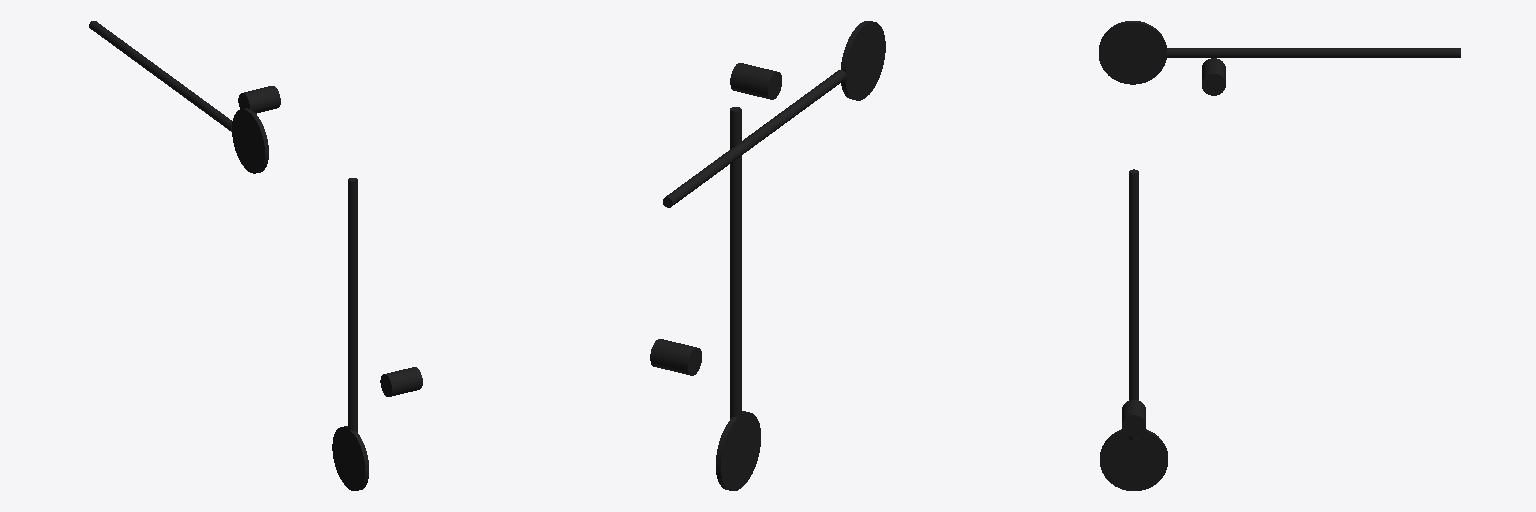
URDF robot description (fingerpro):
<?xml version="1.0" ?>
<!-- =================================================================================== -->
<!-- |    This document was autogenerated by xacro from robot_properties_fingers/xacro/pro/fingerpro.urdf.xacro | -->
<!-- |    EDITING THIS FILE BY HAND IS NOT RECOMMENDED                                 | -->
<!-- =================================================================================== -->
<robot name="fingerpro">
  <!--
    Frames are defined such that they all align with the base frame when all
    joints are at position zero.

    In zero-configuration the origins of all joints are in one line.

    In zero-configuration the origin of the base link is exactly above the
    finger tip which should make it easy to place the finger in the world.
    -->
  <!--
    Frames are defined such that they all align with the base frame when all
    joints are at position zero.

    In zero-configuration the origins of all joints are in one line.

    In zero-configuration the origin of the base link is exactly above the
    finger tip which should make it easy to place the finger in the world.
    -->
  <material name="fingerpro_shell">
    <!-- colour from image -->
    <color rgba="0.804 0.764 0.761 1.0"/>
  </material>
  <material name="fingerpro_tip">
    <!-- colour from image -->
    <color rgba="0.33 0.36 0.37 1.0"/>
  </material>
  <material name="fingerpro_motor">
    <color rgba="0.17 0.17 0.17 1.0"/>
  </material>
  <!--
        Fixed links for the finger base (parts where the upper link is mounted).
        Note: Link Frames already coincide with the joint location
        -->
  <link name="finger_base_link">
    <inertial>
      <mass value="0"/>
      <inertia ixx="0.0" ixy="0.0" ixz="0.0" iyy="0.0" iyz="0.0" izz="0.0"/>
    </inertial>
  </link>
  <link name="finger_upper_link">
    <visual>
      <origin rpy="0 0 0" xyz="0 0 0"/>
      <geometry>
        <mesh filename="package://robot_properties_fingers/meshes/pro/prox-sim.stl" scale="1.0 1.0 1.0"/>
      </geometry>
      <material name="fingerpro_shell"/>
    </visual>
    <collision>
      <origin rpy="0 0 0" xyz="0 0 0"/>
      <geometry>
        <mesh filename="package://robot_properties_fingers/meshes/pro/prox-sim.stl" scale="1.0 1.0 1.0"/>
      </geometry>
    </collision>
    <inertial>
      <origin rpy="0 0 0" xyz="0.006 0.122 0.000"/>
      <mass value="0.26689"/>
      <inertia ixx="0.00102362" ixy="0.00000889" ixz="-0.00000019" iyx="0.00000889" iyy="0.00006450" iyz="0.00000106" izx="-0.00000019" izy="0.00000106" izz="0.00102225"/>
    </inertial>
  </link>
  <link name="finger_upper_link_visuals">
    <!-- motor -->
    <visual>
      <origin xyz="0.01569 0.1643 0"/>
      <geometry>
        <mesh filename="package://robot_properties_fingers/meshes/pro/motor_sim.stl"/>
      </geometry>
      <material name="fingerpro_motor"/>
    </visual>
    <!-- end stop -->
    <visual>
      <origin rpy="0 1.5707963267948966 0" xyz="0.015 0.083 0"/>
      <geometry>
        <cylinder length="0.015" radius="0.005"/>
      </geometry>
      <material name="fingerpro_motor"/>
    </visual>
    <!-- cables -->
    <visual>
      <origin rpy="1.5707963267948966 0 0" xyz="-0.008 0.124 0"/>
      <geometry>
        <cylinder length="0.12" radius="0.002"/>
      </geometry>
      <material name="fingerpro_motor"/>
    </visual>
    <!-- opening on lower joint -->
    <visual>
      <origin rpy="0 1.5707963267948966 0" xyz="-0.0085 0.050 0"/>
      <geometry>
        <cylinder length="0.002" radius="0.014"/>
      </geometry>
      <material name="fingerpro_motor"/>
    </visual>
    <inertial>
      <mass value="0"/>
      <inertia ixx="0.0" ixy="0.0" ixz="0.0" iyy="0.0" iyz="0.0" izz="0.0"/>
    </inertial>
  </link>
  <joint name="finger_upper_visuals_joint" type="fixed">
    <parent link="finger_upper_link"/>
    <child link="finger_upper_link_visuals"/>
    <origin xyz="0 0 0"/>
  </joint>
  <link name="finger_middle_link">
    <visual>
      <origin rpy="0 0 0" xyz="0 0 0"/>
      <geometry>
        <mesh filename="package://robot_properties_fingers/meshes/pro/int_sim.stl" scale="1.0 1.0 1.0"/>
      </geometry>
      <material name="fingerpro_shell"/>
    </visual>
    <collision>
      <origin rpy="0 0 0" xyz="0 0 0"/>
      <geometry>
        <mesh filename="package://robot_properties_fingers/meshes/pro/int_sim.stl" scale="1.0 1.0 1.0"/>
      </geometry>
    </collision>
    <inertial>
      <origin rpy="0 0 0" xyz="0.03935008 -0.00012438 -0.08666705"/>
      <mass value="0.27163"/>
      <inertia ixx="0.00094060" ixy="-0.00000046" ixz="-0.00003479" iyx="-0.00000046" iyy="0.00094824" iyz="0.00000164" izx="-0.00003479" izy="0.00000164" izz="0.00007573"/>
    </inertial>
  </link>
  <link name="finger_middle_link_visuals">
    <!-- motor -->
    <visual>
      <origin xyz="0.0488 0 -0.0462"/>
      <geometry>
        <mesh filename="package://robot_properties_fingers/meshes/pro/motor_sim.stl"/>
      </geometry>
      <material name="fingerpro_motor"/>
    </visual>
    <!-- end stop -->
    <visual>
      <origin rpy="0 1.5707963267948966 0" xyz="0.0488 0 -0.13"/>
      <geometry>
        <cylinder length="0.015" radius="0.005"/>
      </geometry>
      <material name="fingerpro_motor"/>
    </visual>
    <!-- cables -->
    <visual>
      <origin xyz="0.025 0 -0.09"/>
      <geometry>
        <cylinder length="0.12" radius="0.002"/>
      </geometry>
      <material name="fingerpro_motor"/>
    </visual>
    <!-- opening on lower joint -->
    <visual>
      <origin rpy="0 1.5707963267948966 0" xyz="0.024 0 -0.16"/>
      <geometry>
        <cylinder length="0.002" radius="0.014"/>
      </geometry>
      <material name="fingerpro_motor"/>
    </visual>
    <inertial>
      <mass value="0"/>
      <inertia ixx="0.0" ixy="0.0" ixz="0.0" iyy="0.0" iyz="0.0" izz="0.0"/>
    </inertial>
  </link>
  <joint name="finger_middle_visuals_joint" type="fixed">
    <parent link="finger_middle_link"/>
    <child link="finger_middle_link_visuals"/>
  </joint>
  <link name="finger_lower_link">
    <visual>
      <origin rpy="0 0 0" xyz="0 0 0"/>
      <geometry>
        <mesh filename="package://robot_properties_fingers/meshes/pro/tip_link_sim.stl" scale="1.0 1.0 1.0"/>
      </geometry>
      <material name="fingerpro_shell"/>
    </visual>
    <collision>
      <origin rpy="0 0 0" xyz="0 0 0"/>
      <geometry>
        <mesh filename="package://robot_properties_fingers/meshes/pro/tip_link_sim.stl" scale="1.0 1.0 1.0"/>
      </geometry>
    </collision>
    <inertial>
      <origin rpy="0 0 0" xyz="0.01632700 -0.00001095 -0.04284052"/>
      <mass value="0.05569"/>
      <inertia ixx="0.00013626" ixy="0.00000000" ixz="-0.00000662" iyx="0.00000000" iyy="0.00013372" iyz="0.00000004" izx="-0.00000662" izy="0.00000004" izz="0.00000667"/>
    </inertial>
  </link>
  <!-- fixed link for finger tip -->
  <link name="finger_tip_link">
    <visual>
      <origin rpy="0 0 0" xyz="0 0 0"/>
      <geometry>
        <mesh filename="package://robot_properties_fingers/meshes/pro/tip_sim.stl" scale="1.0 1.0 1.0"/>
      </geometry>
      <material name="fingerpro_tip"/>
    </visual>
    <collision>
      <origin rpy="0 0 0" xyz="0 0 0"/>
      <geometry>
        <mesh filename="package://robot_properties_fingers/meshes/pro/tip_sim.stl" scale="1.0 1.0 1.0"/>
      </geometry>
    </collision>
    <inertial>
      <origin rpy="0 0 0" xyz="0 0 0"/>
      <mass value="0.031"/>
      <inertia ixx="5.166666666666667e-07" ixy="0" ixz="0" iyy="5.166666666666667e-07" iyz="0" izz="5.166666666666667e-07"/>
    </inertial>
    <inertial>
      <origin rpy="0 0 0" xyz="-0.00001194 0.00000000 0.01560060"/>
      <mass value="0.0092"/>
      <inertia ixx="0.00000155" ixy="0.00000000" ixz="0.00000000" iyx="0.00000000" iyy="0.00000155" iyz="0.00000000" izx="0.00000000" izy="0.00000000" izz="0.00000032"/>
    </inertial>
  </link>
  <joint name="finger_lower_to_tip_joint" type="fixed">
    <parent link="finger_lower_link"/>
    <child link="finger_tip_link"/>
    <origin xyz="0.019 0 -0.16"/>
  </joint>
  <!-- kinematics -->
  <!-- NOTE: Joint limits are set according to soft limits in the
             configuration of the real robot (i.e. not according to physical
             limits). -->
  <joint name="finger_base_to_upper_joint" type="revolute">
    <parent link="finger_base_link"/>
    <child link="finger_upper_link"/>
    <limit effort="1000" lower="-0.33" upper="1.0" velocity="1000"/>
    <axis xyz="0 1 0"/>
    <origin rpy="0 0 0" xyz="0 0 0"/>
  </joint>
  <joint name="finger_upper_to_middle_joint" type="revolute">
    <parent link="finger_upper_link"/>
    <child link="finger_middle_link"/>
    <limit effort="1000" lower="0.0" upper="1.57" velocity="1000"/>
    <axis xyz="1 0 0"/>
    <origin rpy="0 0 0" xyz="0.01685 0.0505 0"/>
  </joint>
  <joint name="finger_middle_to_lower_joint" type="revolute">
    <parent link="finger_middle_link"/>
    <child link="finger_lower_link"/>
    <limit effort="1000" lower="-2.7" upper="0.0" velocity="1000"/>
    <axis xyz="1 0 0"/>
    <origin rpy="0 0 0" xyz="0.05015 0 -0.16"/>
  </joint>
  <!--
    Define the global base link and place the finger relative to it.
    Note: Here I've used the center point of the center piece as the origin 
    -->
  <link name="center_link">
    <visual>
      <origin rpy="0 0 0" xyz="0 0 0"/>
      <geometry>
        <mesh filename="package://robot_properties_fingers/meshes/pro/center_axis_sim.stl" scale="1.0 1.0 1.0"/>
      </geometry>
      <material name="fingerpro_shell"/>
    </visual>
    <collision>
      <origin rpy="0 0 0" xyz="0 0 0"/>
      <geometry>
        <mesh filename="package://robot_properties_fingers/meshes/pro/center_axis_sim.stl" scale="1.0 1.0 1.0"/>
      </geometry>
    </collision>
    <inertial>
      <origin rpy="0 0 0" xyz="0 0 0"/>
      <mass value="1"/>
      <inertia ixx="4.166666666666667e-06" ixy="0" ixz="0" iyy="4.166666666666667e-06" iyz="0" izz="4.166666666666667e-06"/>
    </inertial>
  </link>
  <joint name="base_to_finger" type="fixed">
    <parent link="center_link"/>
    <child link="finger_base_link"/>
    <origin xyz="0 0 0"/>
  </joint>
</robot>

--- Render facts (derived) ---
Views: 3 orthographic renders of the robot side by side, from view 1: azimuth 30°, elevation 25°; view 2: azimuth 150°, elevation 25°; view 3: azimuth 270°, elevation 25°.
Model fingerpro with 8 links and 7 joints (3 revolute, 4 fixed), rooted at center_link, posed every joint at zero.
Links seen in each view (by area): view 1: finger_middle_link_visuals, finger_upper_link_visuals; view 2: finger_middle_link_visuals, finger_upper_link_visuals; view 3: finger_upper_link_visuals, finger_middle_link_visuals.
Boxes of the visible links, x1,y1,x2,y2 form: finger_middle_link_visuals: (332, 178, 422, 490); finger_upper_link_visuals: (89, 21, 280, 173); finger_middle_link_visuals: (650, 107, 760, 490); finger_upper_link_visuals: (663, 21, 885, 207); finger_upper_link_visuals: (1099, 21, 1460, 95); finger_middle_link_visuals: (1100, 169, 1167, 490).
Size in the robot's own frame: 0.0831 by 0.148 by 0.188 metres.
Meshes: 6 distinct files referenced, 0 mesh visuals loaded (none loaded); not drawn: 7 (reference not matched to a file when rendering).